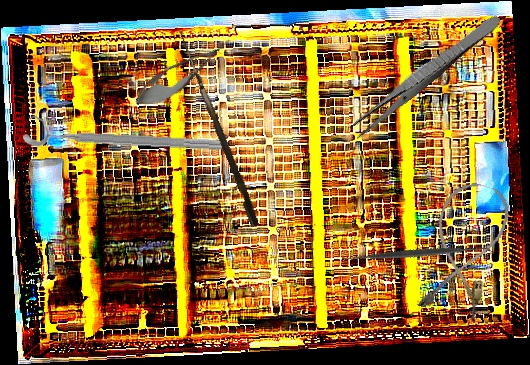Cannula: (413, 175, 515, 324)
Dressing Forceps: (346, 8, 504, 142)
Fixation Ring: (22, 112, 224, 157)
Hook Surgical: (170, 30, 263, 228)
Micro Scissor: (128, 28, 239, 117)
Spatula Surgical: (336, 174, 495, 333)
